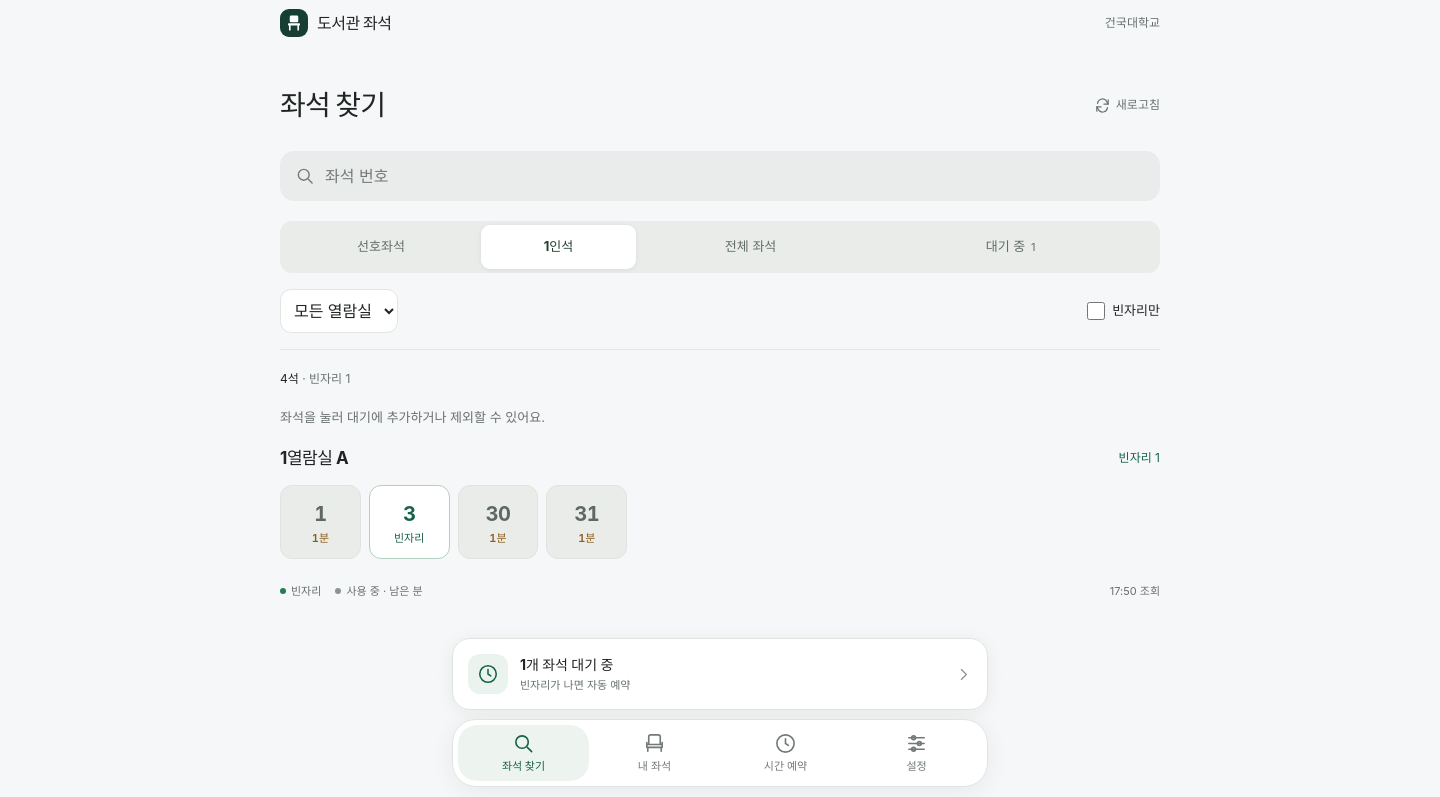
React app with the existing account API › reserves a free seat directly even while another seat is being monitored
Check: the heading "좌석 찾기" is shown, box top-left (280, 88), bottom-right (385, 122)
Click the button "전체 좌석". click: click(751, 247)
box: top-left (639, 225), bottom-right (862, 269)
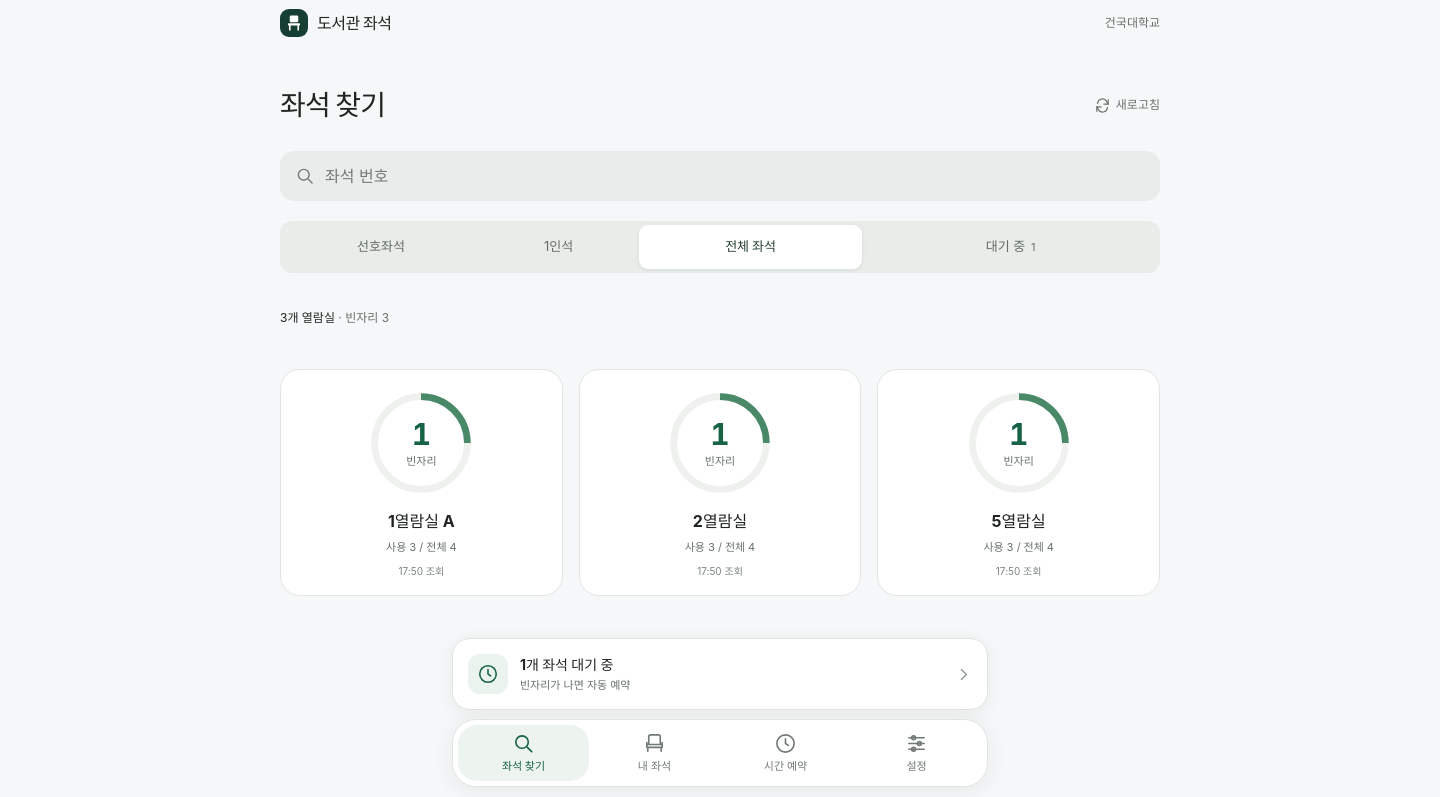
Type "열람실" into the search field. click: (740, 176)
box: top-left (325, 151), bottom-right (1154, 201)
(page scrolled)
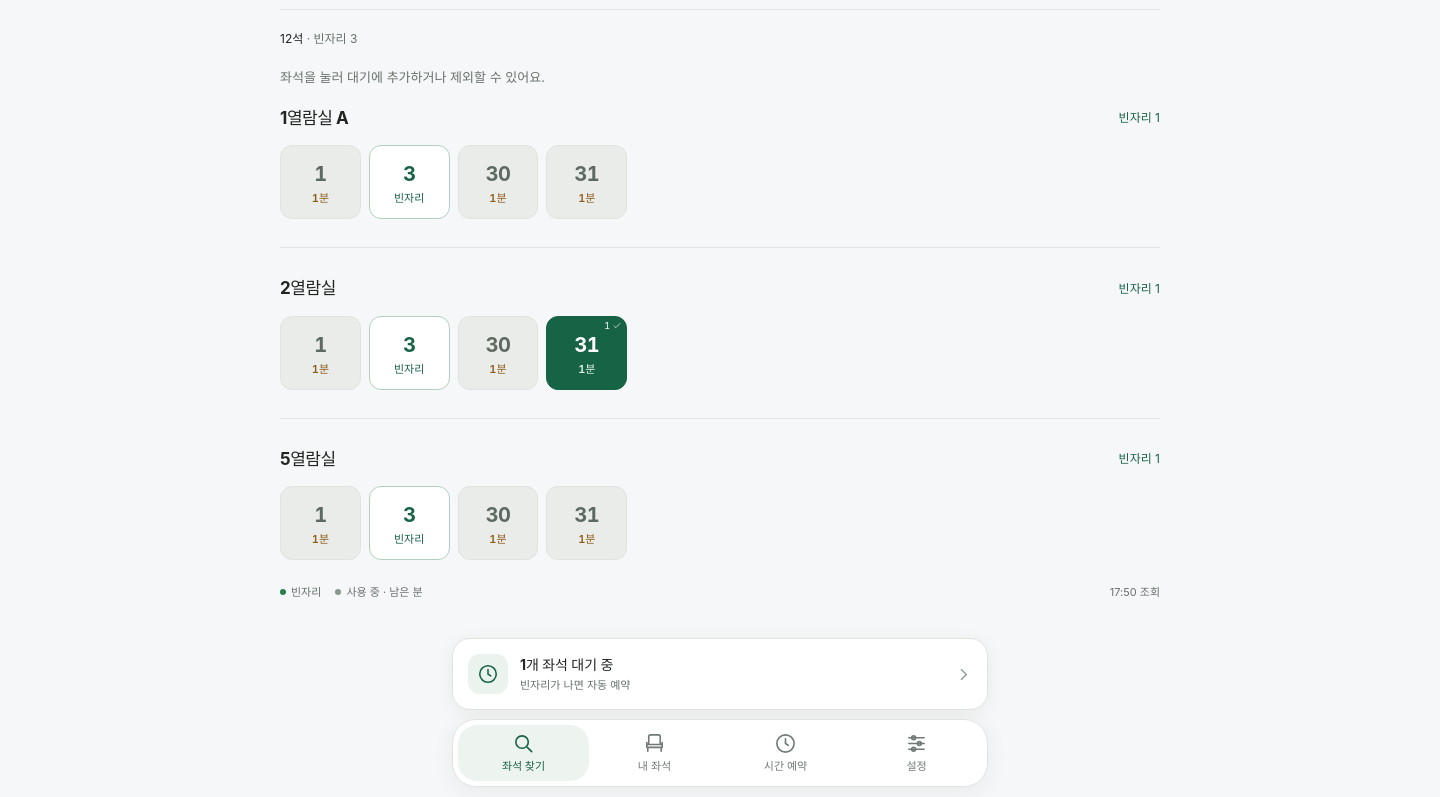
Click the button with aria-label "5열람실 3번 빈자리 상세 보기". click: click(409, 523)
box: top-left (369, 486), bottom-right (450, 560)
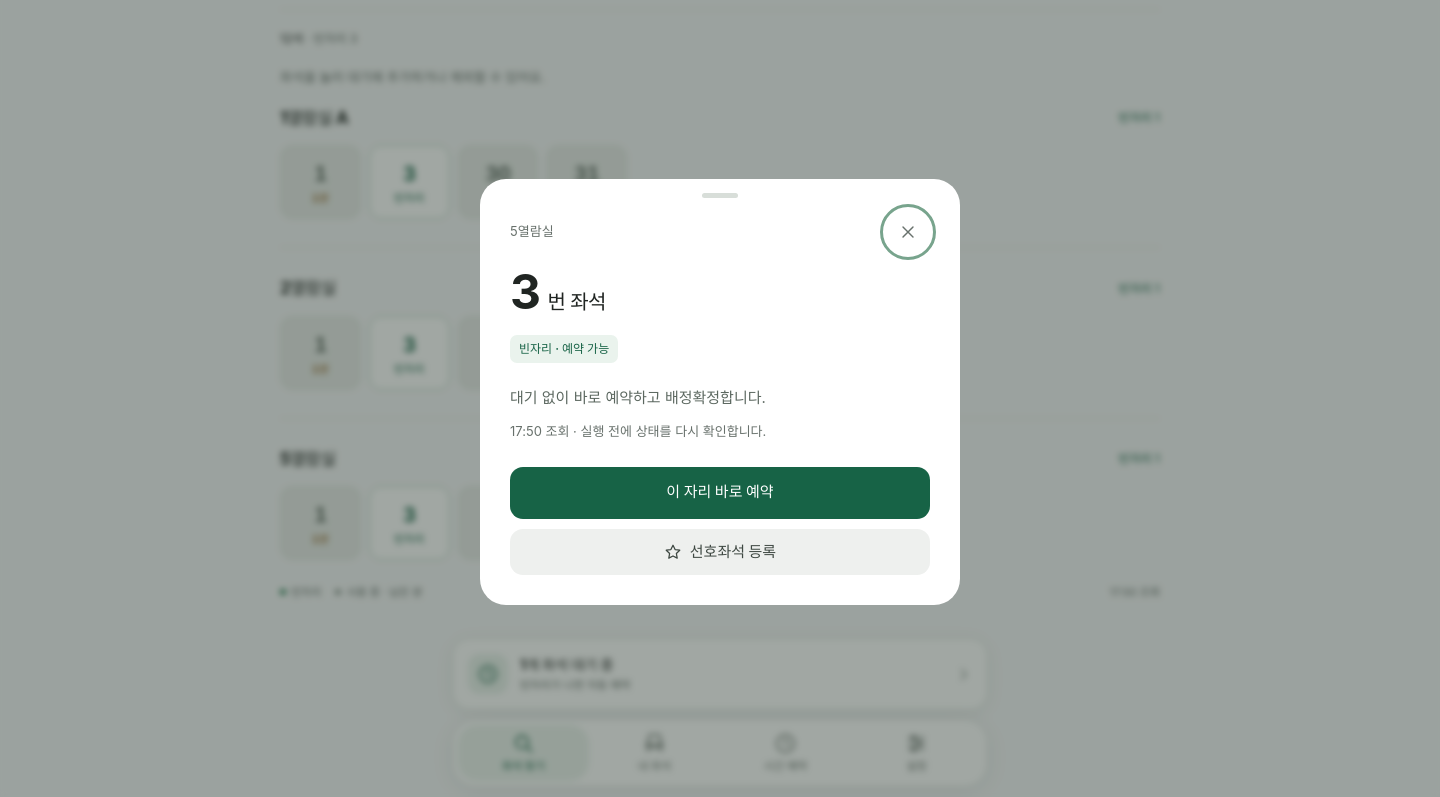
Click the button "이 자리 바로 예약". click: click(720, 493)
box: top-left (510, 467), bottom-right (930, 519)
(page scrolled)
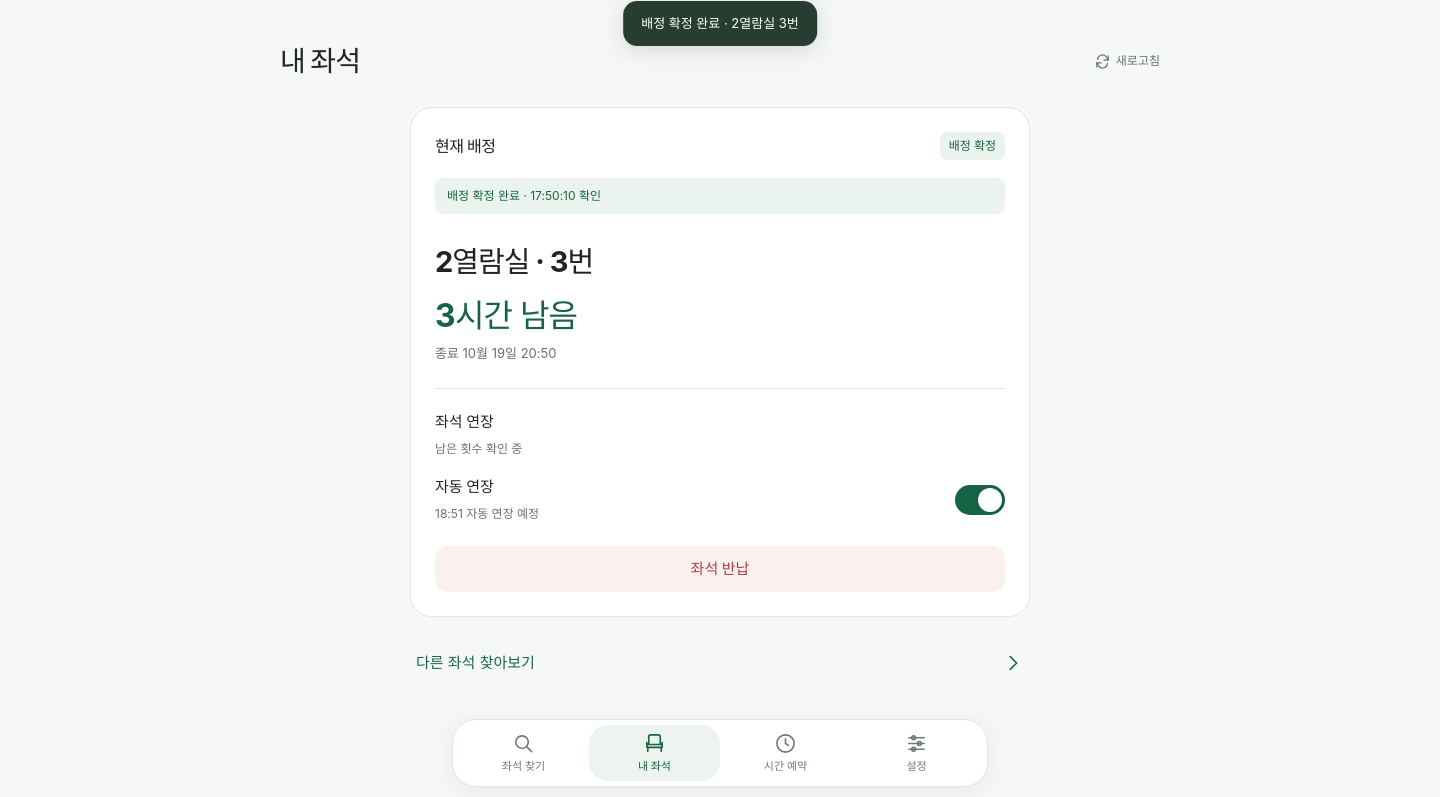
Check: the text with id "reservation-badge" reads "배정 확정", box top-left (949, 138), bottom-right (996, 153)
